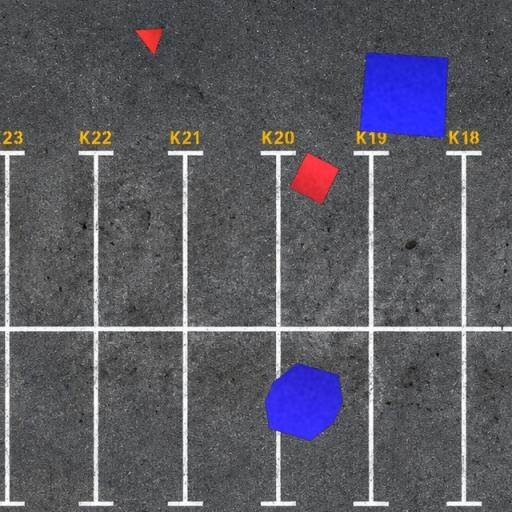BLUE_SQUARE: (359, 52, 449, 138)
RED_SQUARE: (289, 152, 340, 206)
